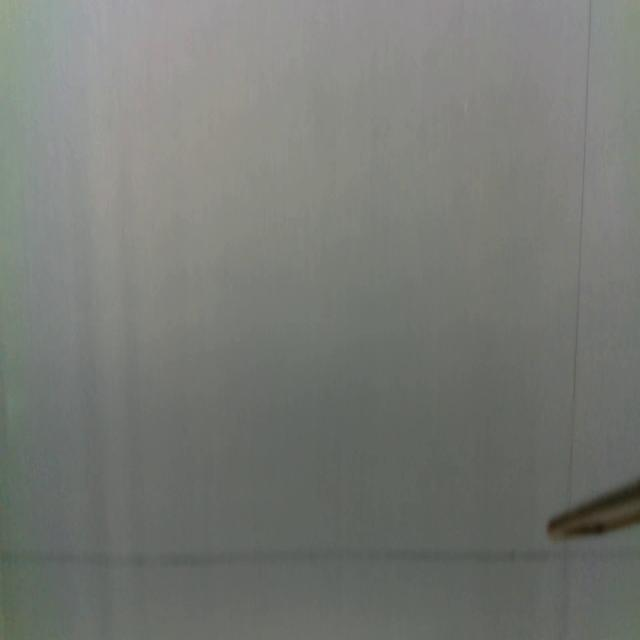color bleeding: (1, 542, 640, 576)
crease: (568, 0, 593, 488)
